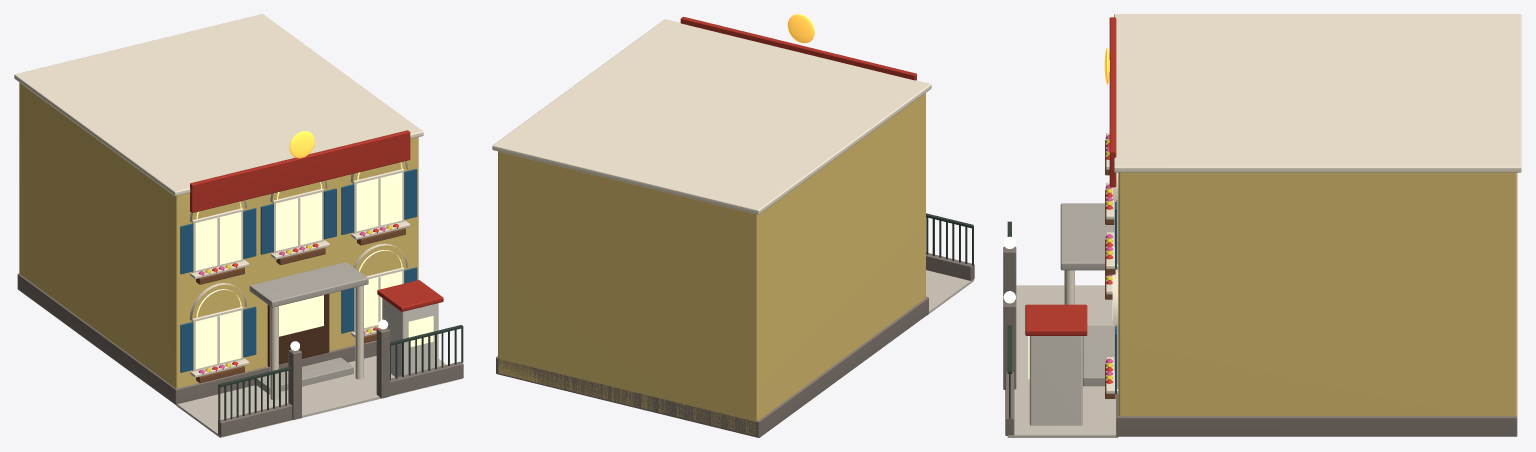
The model's file is police_station.glb.
The picture shows the model from 3 angles, left to right: view 1: azimuth 30°, elevation 25°; view 2: azimuth 150°, elevation 25°; view 3: azimuth 270°, elevation 25°; orthographic projection. The views are drawn at different scales.
Visible parts, largest first — view 1: Shell, Roof, SignBand, Yard, Base, Canopy, Booth, PU5.9Glass, PU3.25Glass, PU0.6Glass, PW0.6Glass, Door (+25 smaller); view 2: Shell, Roof, Base, SignBand, Yard, FenceBase, Emblem; view 3: Shell, Roof, Base, Yard, Booth, Canopy, BoothRoof, Steps, SignBand, GatePost.001, GatePost, FenceBase.001.
Part boxes in pixels (<box>): Shell: <box>19,82,418,388</box>; Roof: <box>14,14,423,196</box>; SignBand: <box>190,130,410,212</box>; Yard: <box>176,355,462,437</box>; Base: <box>17,273,376,404</box>; Canopy: <box>249,262,368,307</box>; Booth: <box>382,298,438,376</box>; PU5.9Glass: <box>356,172,402,231</box>; PU3.25Glass: <box>276,192,321,250</box>; PU0.6Glass: <box>195,212,241,270</box>; PW0.6Glass: <box>195,310,241,369</box>; Door: <box>267,294,329,366</box>; Shell: <box>498,93,925,435</box>; Roof: <box>492,19,931,214</box>; Base: <box>496,296,928,437</box>; SignBand: <box>680,16,916,80</box>; Yard: <box>926,270,973,315</box>; FenceBase: <box>926,252,974,280</box>; Emblem: <box>787,14,814,43</box>; Shell: <box>1118,172,1517,416</box>; Roof: <box>1114,14,1521,172</box>; Base: <box>1116,394,1517,436</box>; Yard: <box>1007,285,1118,437</box>; Booth: <box>1029,336,1082,425</box>; Canopy: <box>1060,203,1114,270</box>; BoothRoof: <box>1025,304,1087,335</box>; Steps: <box>1083,325,1114,386</box>; SignBand: <box>1109,17,1116,187</box>; GatePost.001: <box>1003,301,1016,389</box>; GatePost: <box>1003,246,1016,301</box>; FenceBase.001: <box>1005,372,1014,435</box>.
Size of the model in its own units: 8.2 by 7.81 by 11.7.
